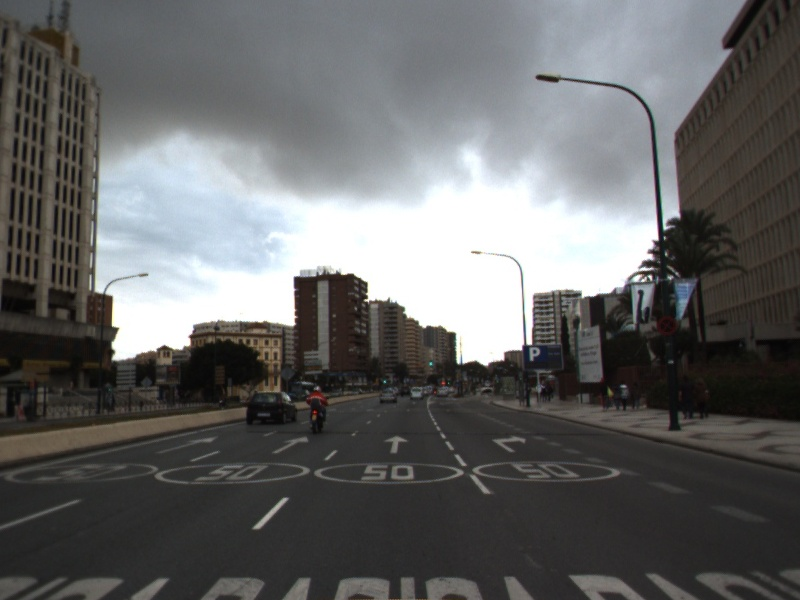RIGHT: (490, 433, 528, 455)
STRAIGHT: (153, 434, 221, 455), (270, 434, 311, 455), (382, 433, 411, 455)
